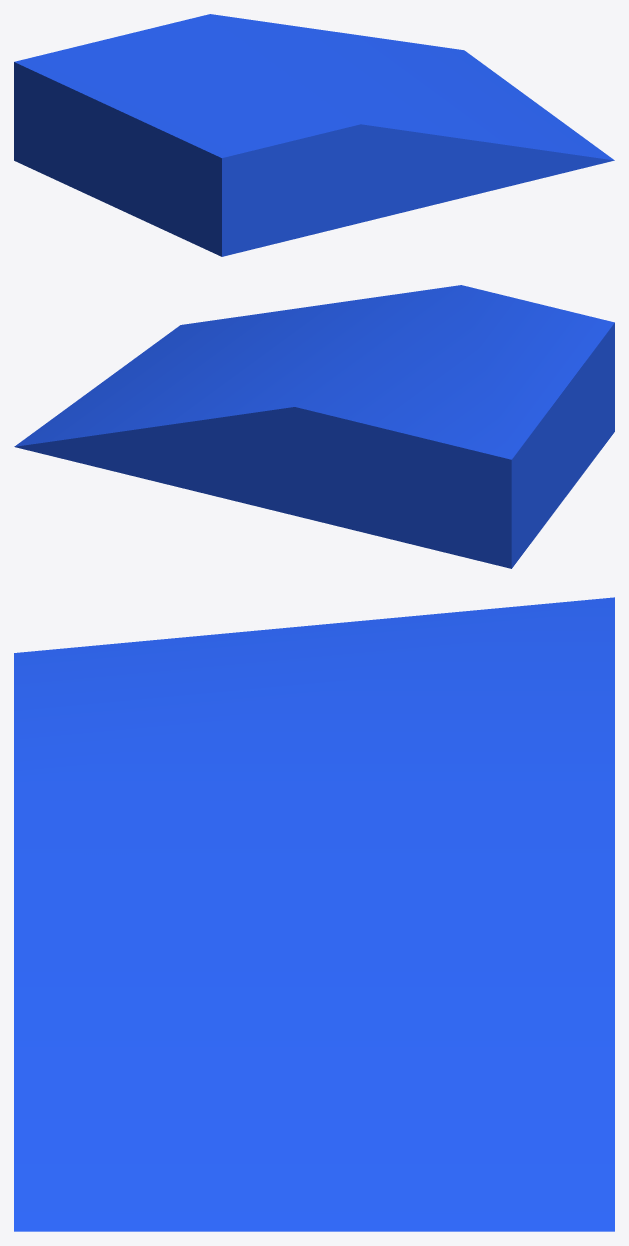
Rendered from Dest_PoisonFactory_Stair_Physic.FBX.
3 renders of one model, top to bottom at view 1: azimuth 30°, elevation 25°; view 2: azimuth 150°, elevation 25°; view 3: azimuth 270°, elevation 25°, orthographic. The views are drawn at different scales.
Visible parts, largest first — view 1: Box005; view 2: Box005; view 3: Box005.
Boxes of the visible parts, x1=… form: Box005: x1=14, y1=14, x2=614, y2=256; Box005: x1=14, y1=285, x2=614, y2=568; Box005: x1=14, y1=597, x2=614, y2=1231.
Size of the model in its own units: 27.48 by 5.76 by 15.93.
